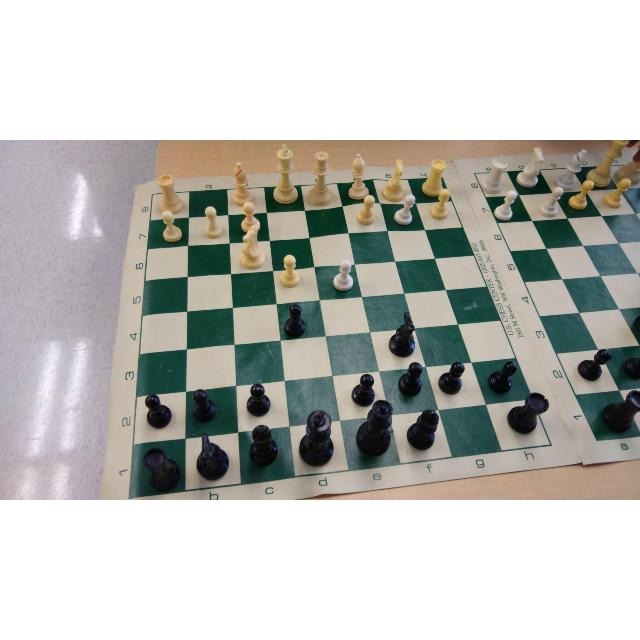black-bishop: (405, 406, 441, 451), (246, 423, 279, 467)
black-king: (298, 408, 336, 469)
black-knight: (194, 430, 232, 483), (387, 310, 418, 358)
black-pawn: (575, 347, 613, 382), (485, 360, 519, 394), (143, 392, 174, 429), (437, 360, 467, 396), (396, 360, 423, 396), (245, 383, 273, 417), (191, 388, 217, 424), (350, 371, 375, 408), (283, 303, 307, 339)
black-queen: (354, 397, 394, 456)
black-rook: (139, 444, 182, 494), (506, 390, 552, 436), (600, 388, 639, 433)
white-bishop: (553, 149, 588, 191), (231, 159, 255, 208), (348, 152, 370, 201)
white-king: (586, 140, 629, 189), (271, 142, 298, 206)
white-knight: (238, 223, 268, 271), (515, 146, 545, 188), (381, 157, 407, 203)
white-pawn: (601, 177, 632, 210), (492, 188, 518, 223), (201, 204, 225, 240), (568, 180, 595, 212), (393, 191, 417, 226), (538, 185, 563, 218), (160, 210, 184, 244), (277, 254, 300, 288), (428, 187, 451, 221), (238, 200, 261, 233), (332, 259, 354, 293), (356, 192, 378, 225)
white-queen: (306, 149, 333, 207)
white-rook: (154, 173, 185, 217), (420, 158, 449, 198), (479, 158, 509, 194)
